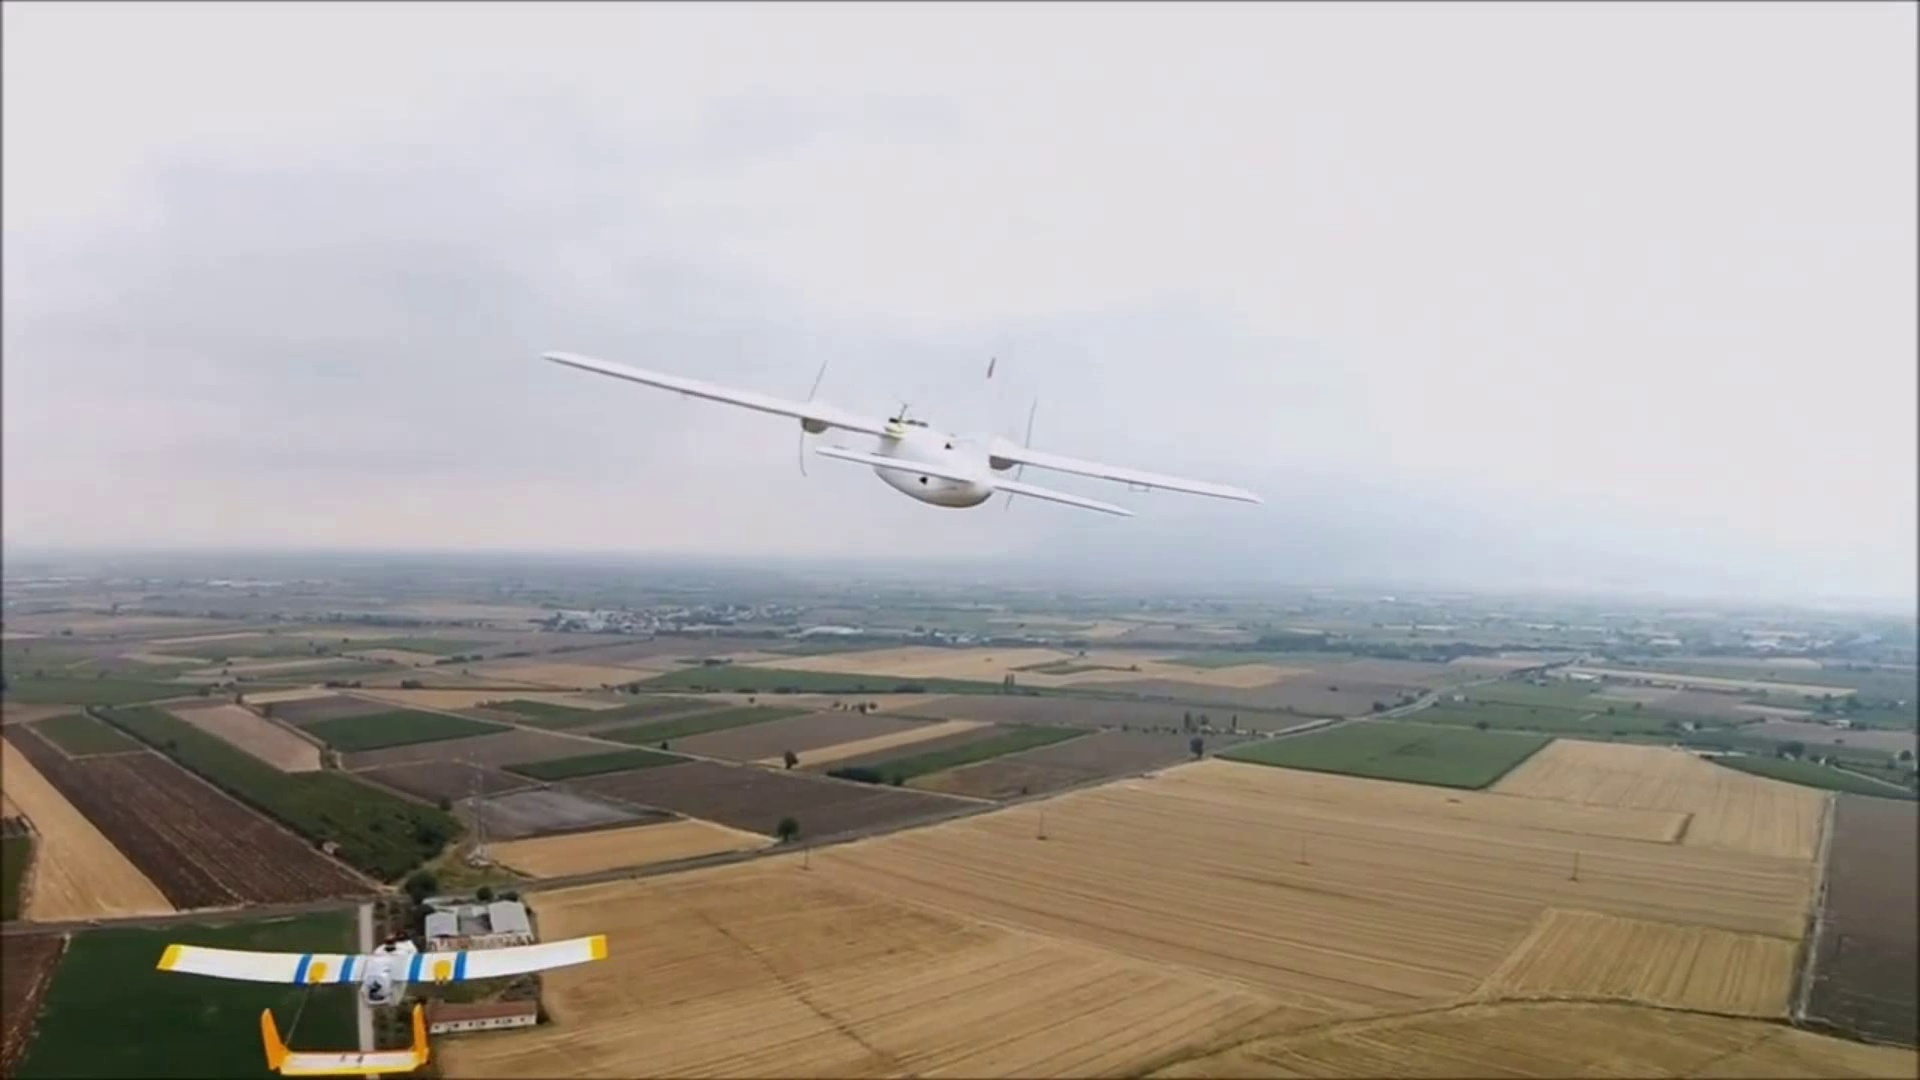airplane: (541, 345, 1262, 520)
